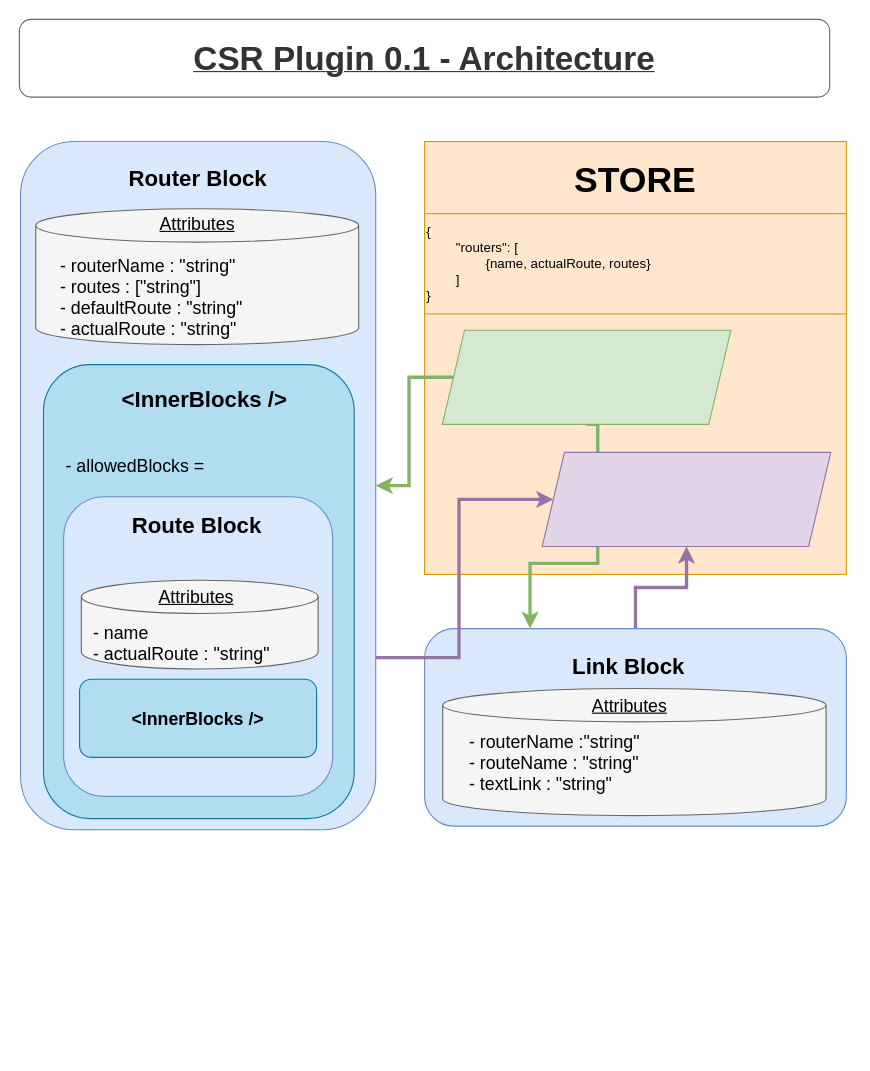
Some shapes in this 870 by 1071 pixel diagram are drawn without their labels. Each missing label, with the box of its shape:
Dispatcher: Create/Update/Delete : Routes, Routers, Links: (541, 451, 831, 546)
Selectors : Read: Routes, Routers, Links: (441, 329, 731, 424)
